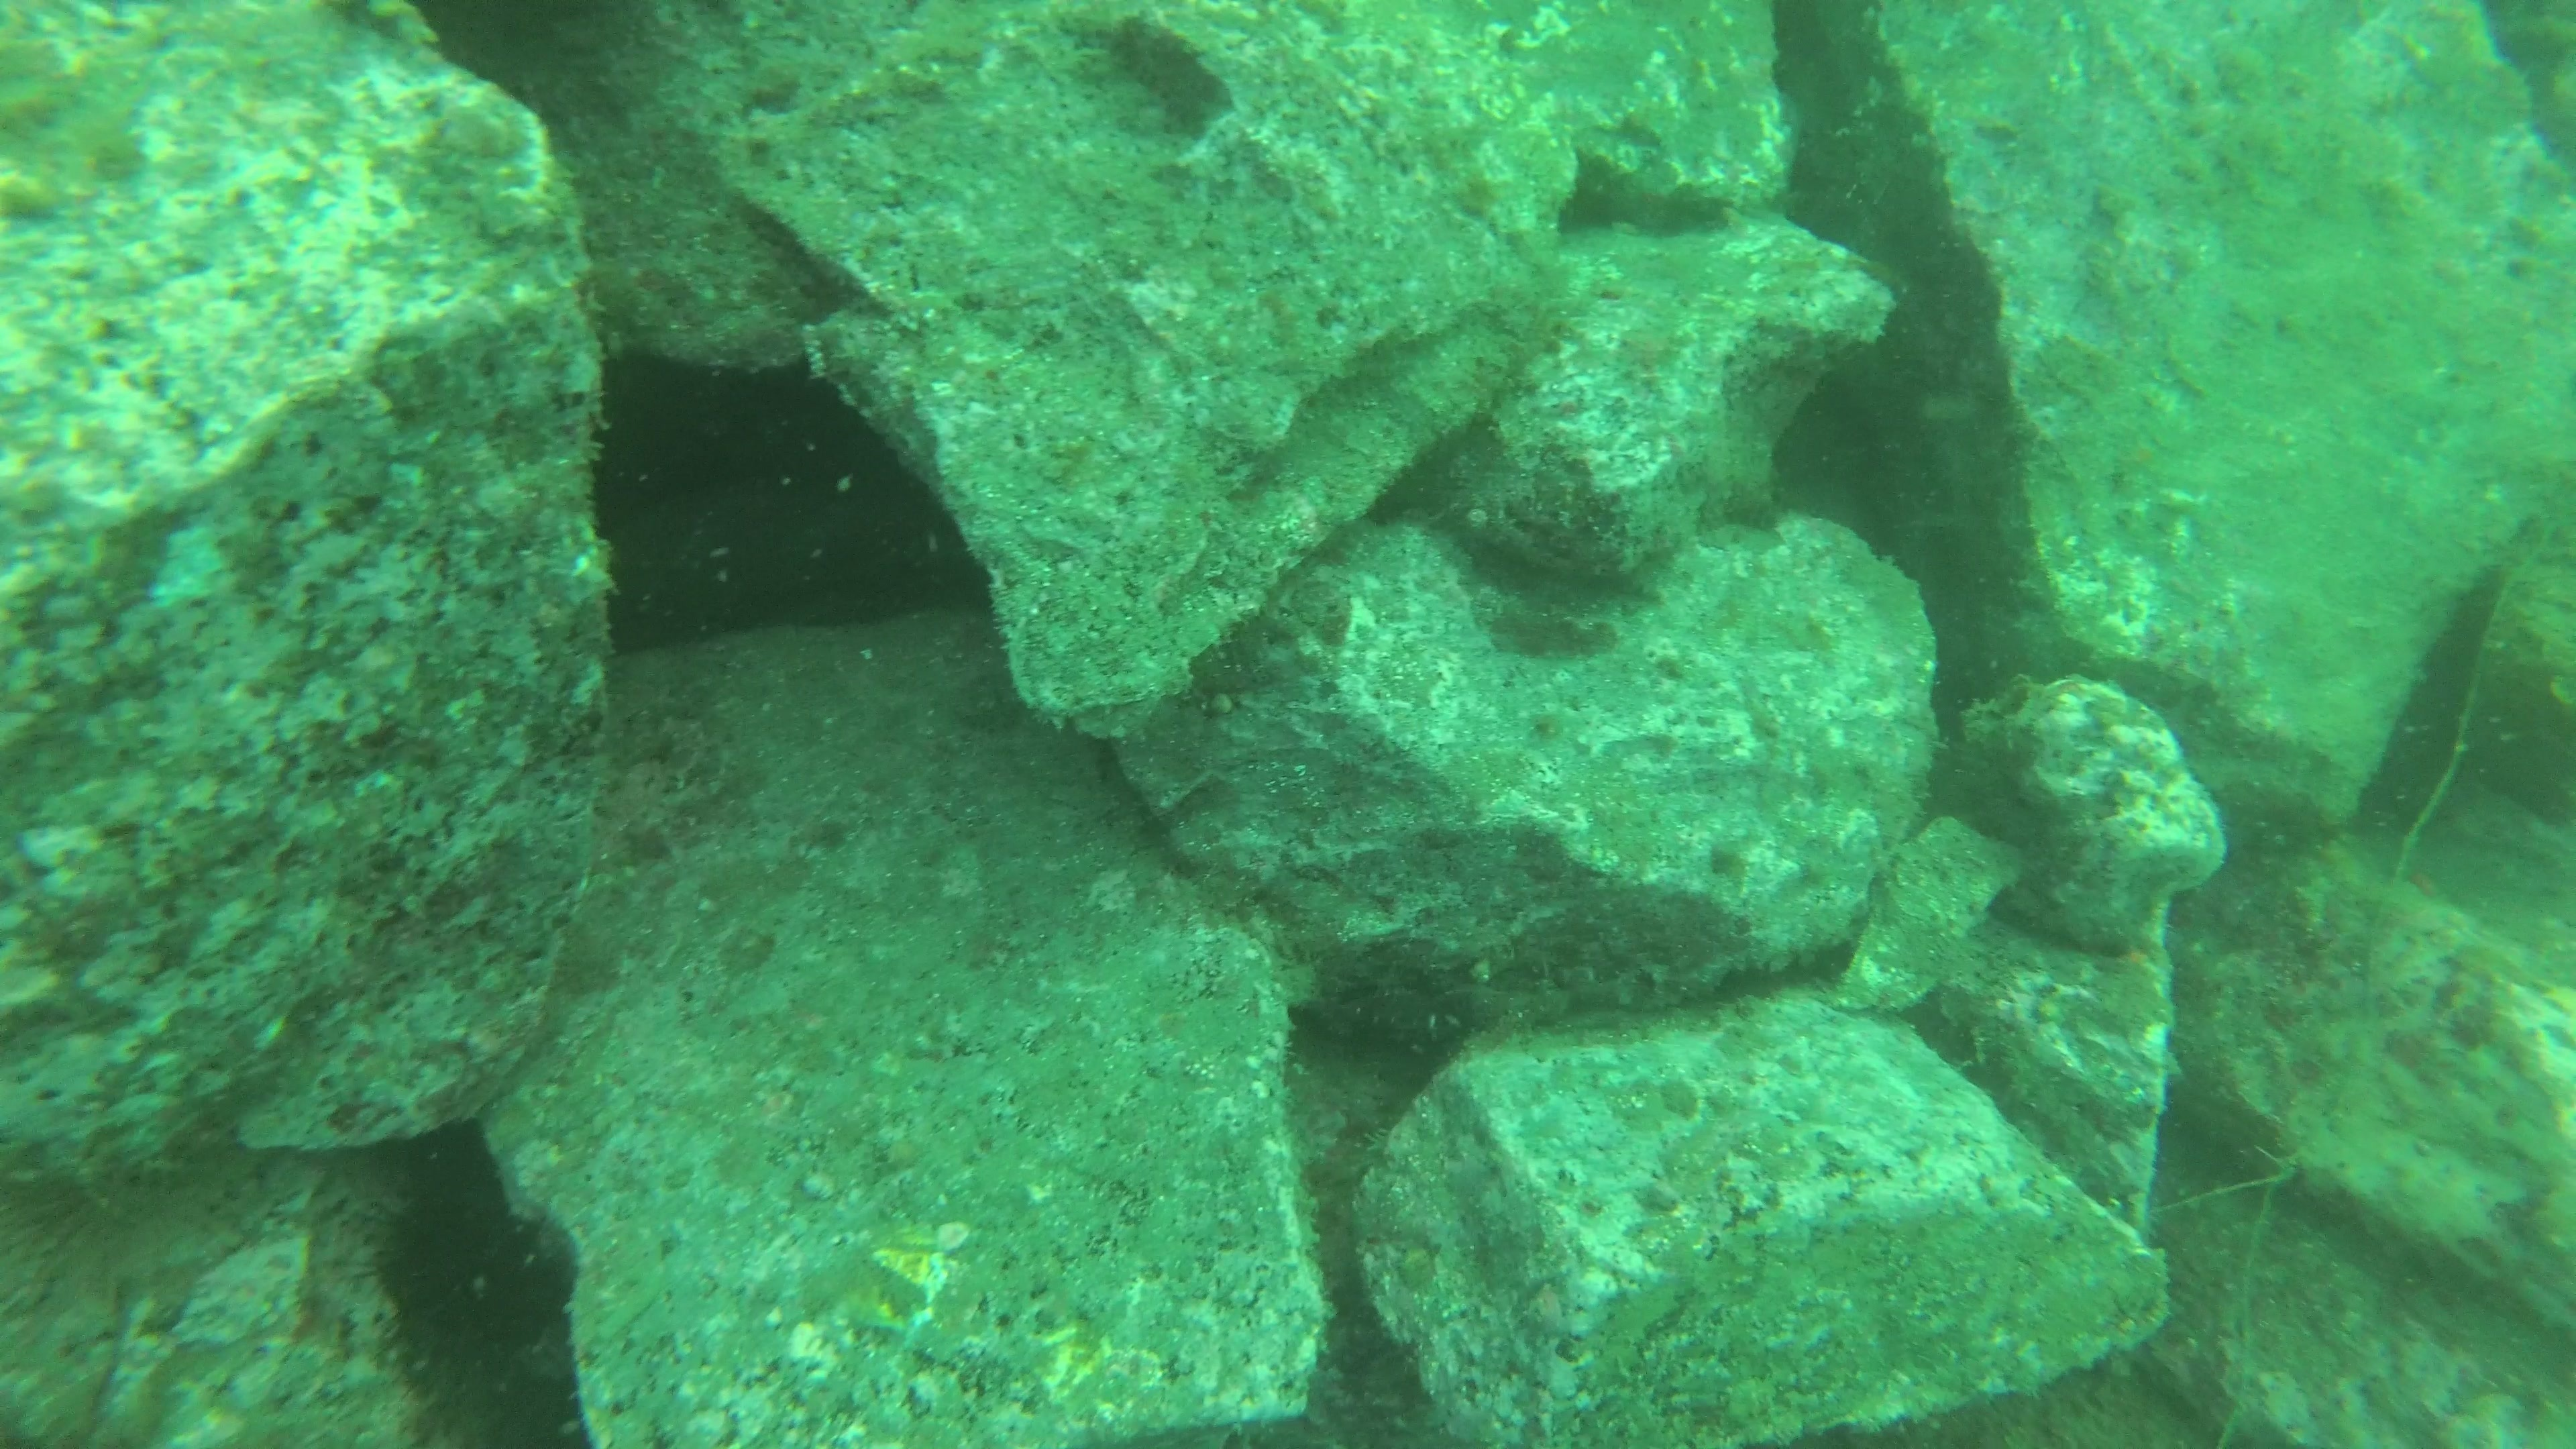echinus: (361, 1180, 580, 1373)
